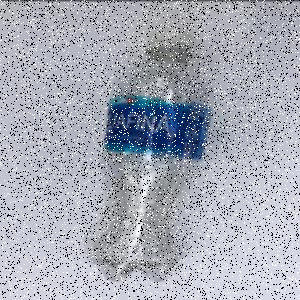Plastic-bottle: (83, 29, 217, 284)
